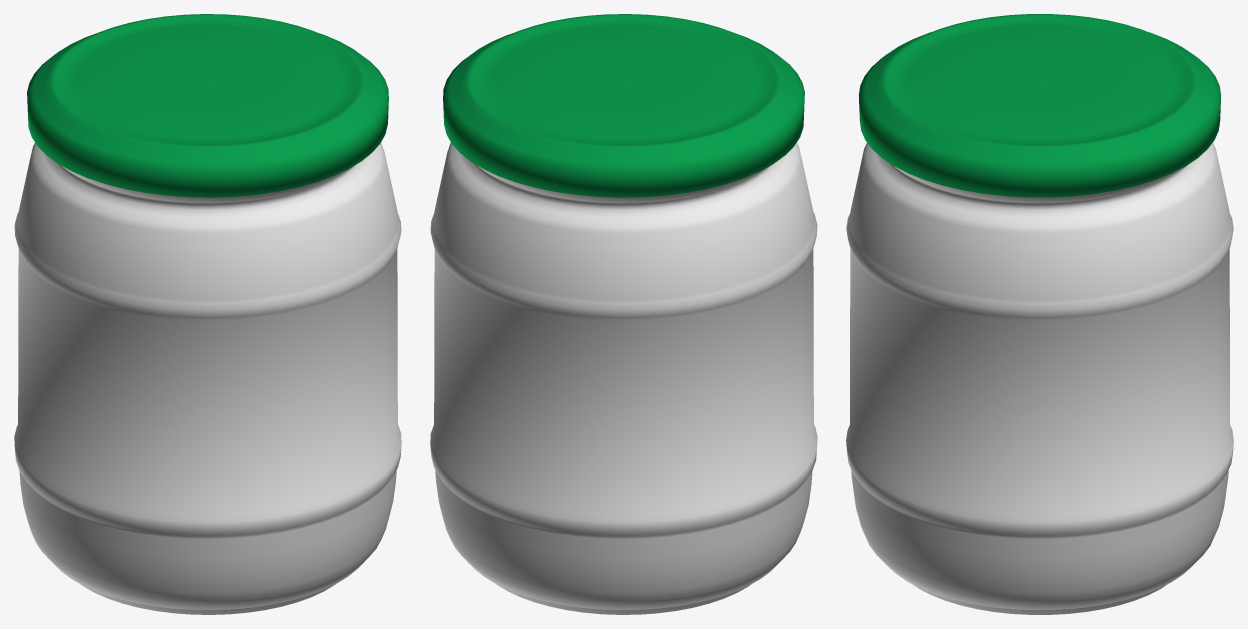
Rendered from kalaxianos.glb.
3 renders of one model, left to right at view 1: azimuth 30°, elevation 25°; view 2: azimuth 150°, elevation 25°; view 3: azimuth 270°, elevation 25°, orthographic.
Visible parts, largest first — view 1: meeseeks; view 2: meeseeks; view 3: meeseeks.
Boxes of the visible parts, bbox=[...] form: meeseeks: bbox=[14, 14, 401, 614]; meeseeks: bbox=[430, 14, 817, 614]; meeseeks: bbox=[846, 14, 1233, 614].
Bounding box in the file's own units: 0.1034 × 0.14 × 0.1036.
Materials: 2 (1 with a texture image).
